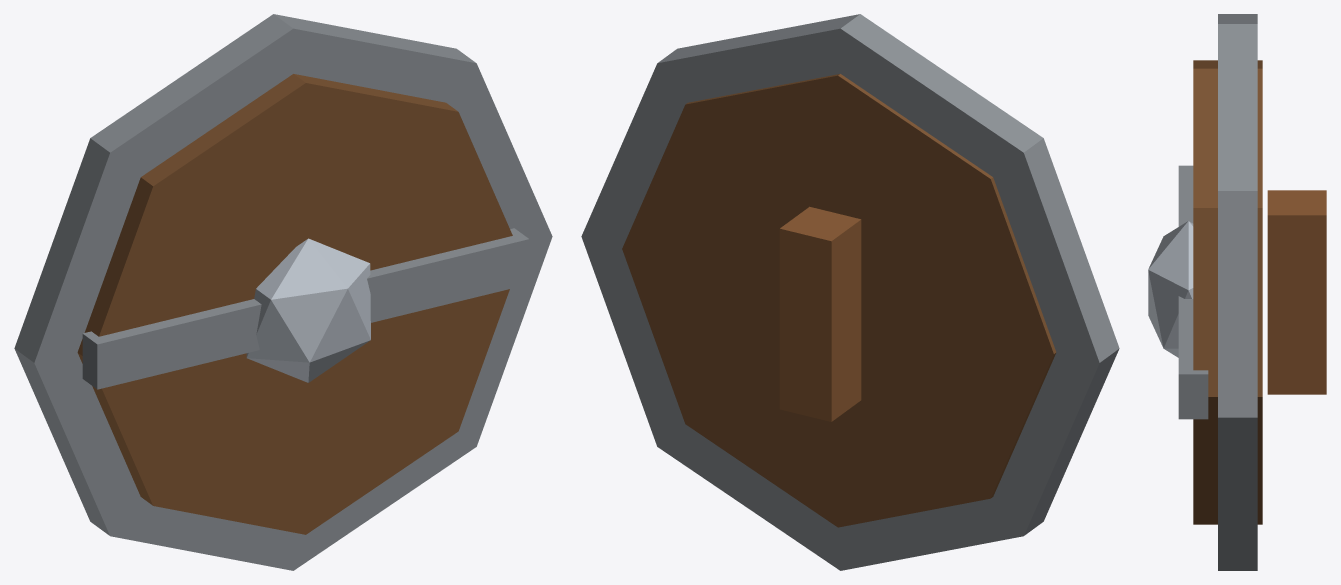
File: oak_buckler.glb
3 views of the same model, side by side, from view 1: azimuth 30°, elevation 25°; view 2: azimuth 150°, elevation 25°; view 3: azimuth 270°, elevation 25° (orthographic).
Parts seen in each view (by area): view 1: oak_buckler; view 2: oak_buckler; view 3: oak_buckler.
Part boxes in pixels (x1=…): oak_buckler: x1=14, y1=14, x2=552, y2=570; oak_buckler: x1=581, y1=14, x2=1119, y2=570; oak_buckler: x1=1148, y1=14, x2=1326, y2=570.
Size of the model in its own units: 0.6 by 0.6 by 0.1808.
